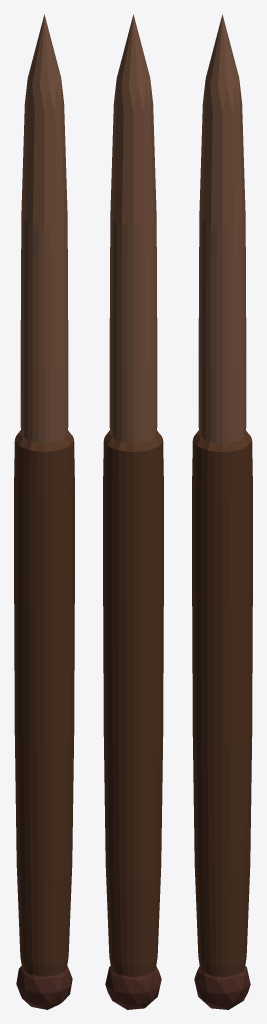
The model's file is Wand 0.glb.
The picture shows the model from 3 angles, left to right: view 1: azimuth 30°, elevation 25°; view 2: azimuth 210°, elevation 25°; view 3: azimuth 330°, elevation 25°; orthographic projection.
Parts seen in each view (by area): view 1: GeneratedWand; view 2: GeneratedWand; view 3: GeneratedWand.
Part boxes in pixels (<box>): GeneratedWand: <box>14,14,74,1009</box>; GeneratedWand: <box>103,14,163,1009</box>; GeneratedWand: <box>192,14,252,1009</box>.
Size of the model in its own units: 0.0273 by 0.4909 by 0.0273.
